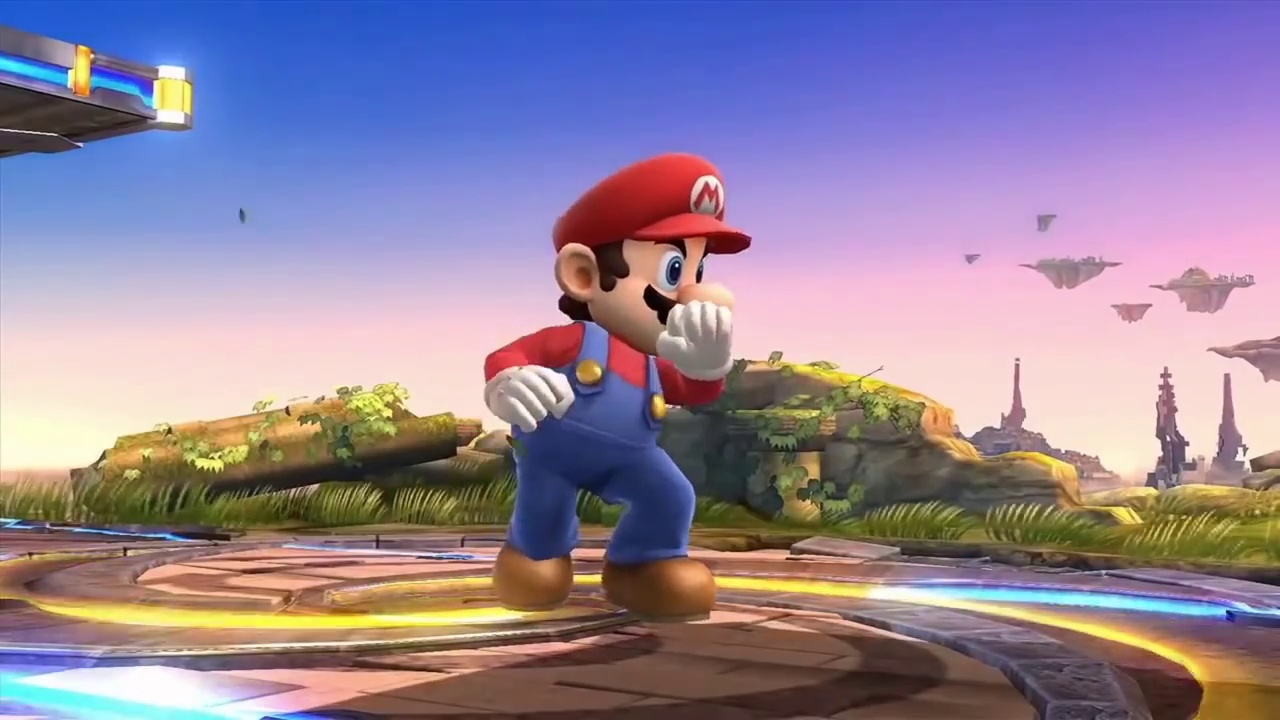Mario: (482, 150, 754, 625)
